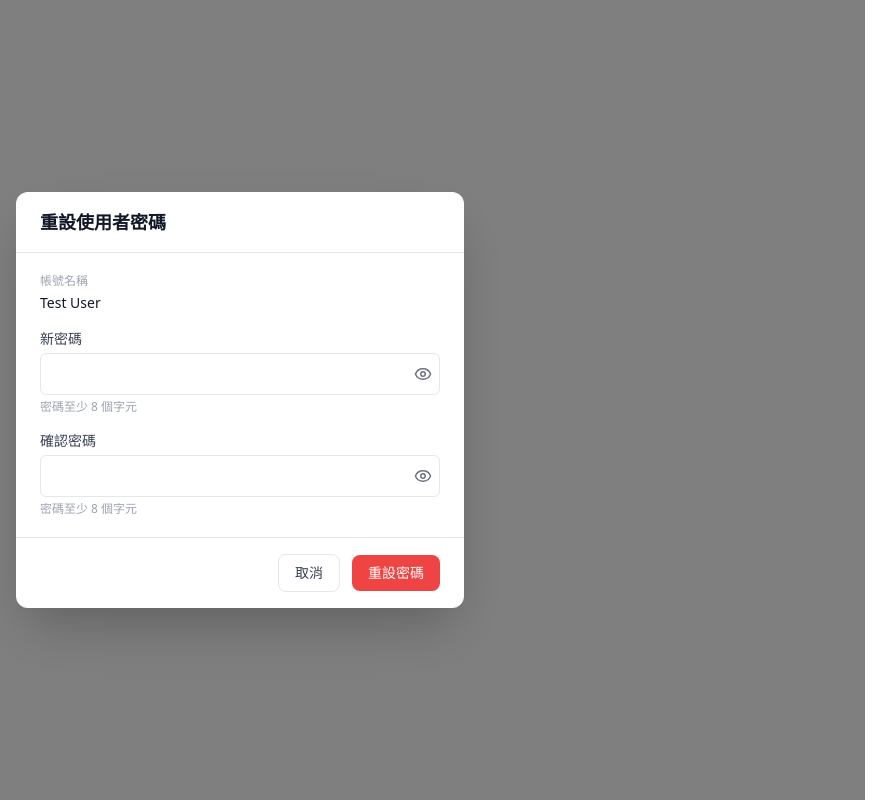
Test: ResetPasswordDialog › 密碼不一致時顯示錯誤
In the password field labelled "新密碼": (240, 374) [40,353,440,395], type "Password123"
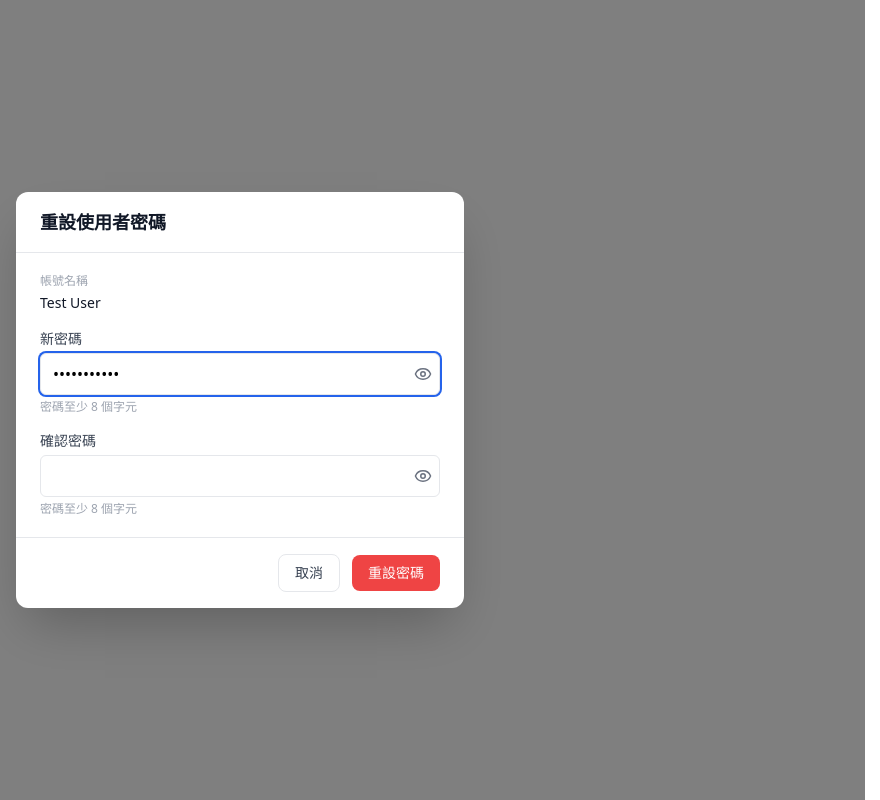
In the password field labelled "確認密碼": (240, 476) [40,455,440,497], type "DifferentPass"
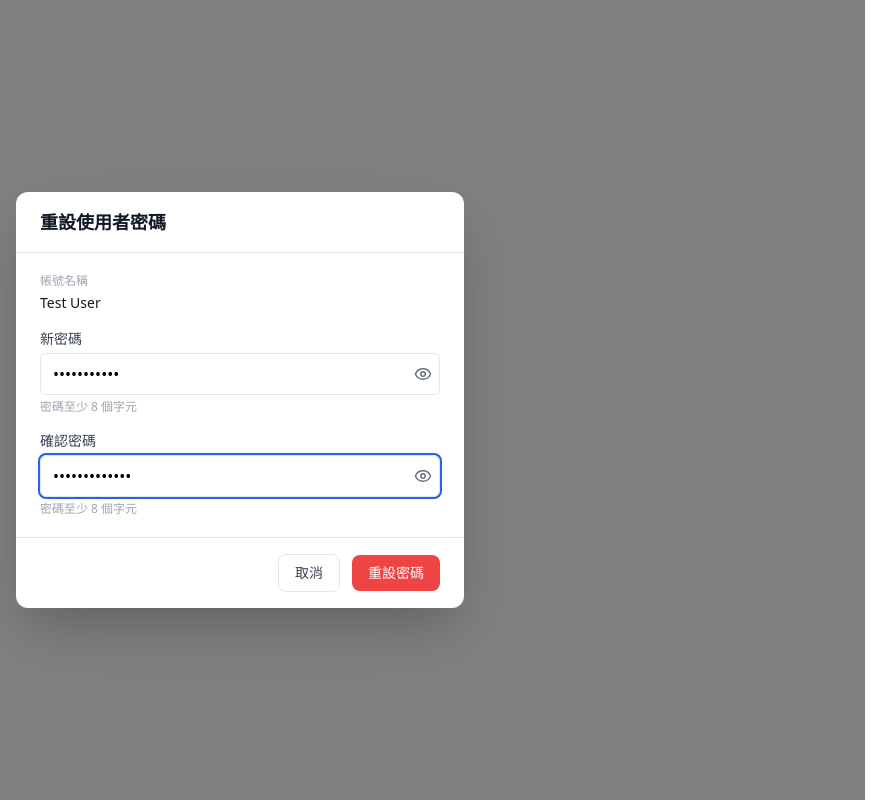
Click the button "重設密碼": (396, 573) [352,555,440,591]
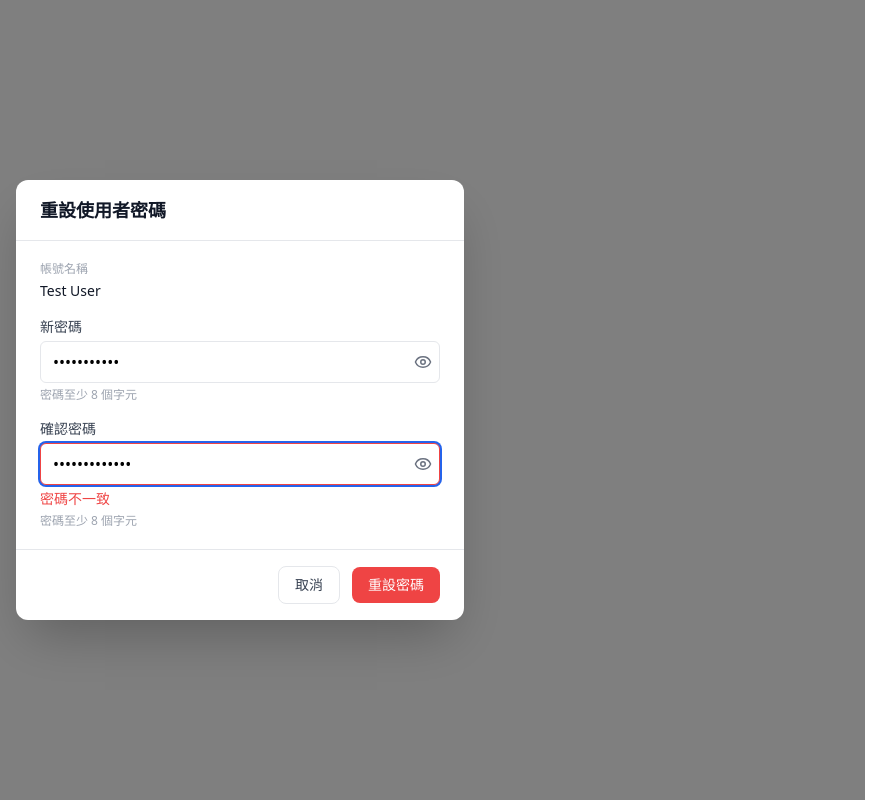
Check: the text "密碼不一致" is shown, box [40,489,110,508]
